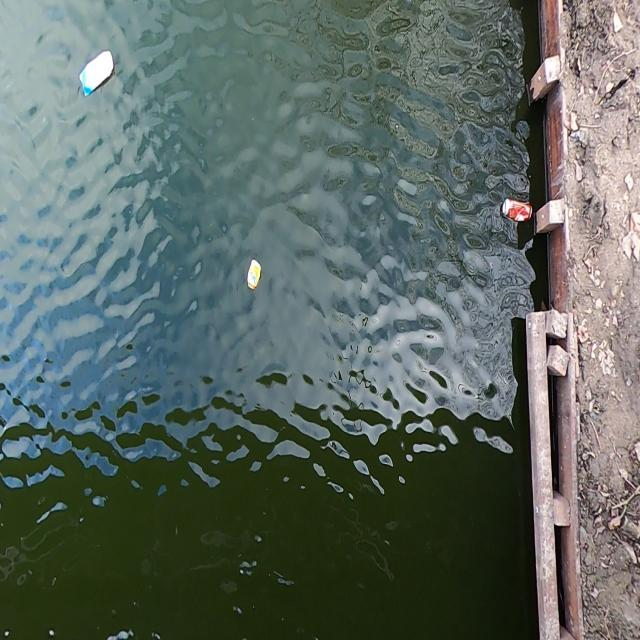Non plastique: (500, 198, 536, 228), (246, 256, 264, 294)
